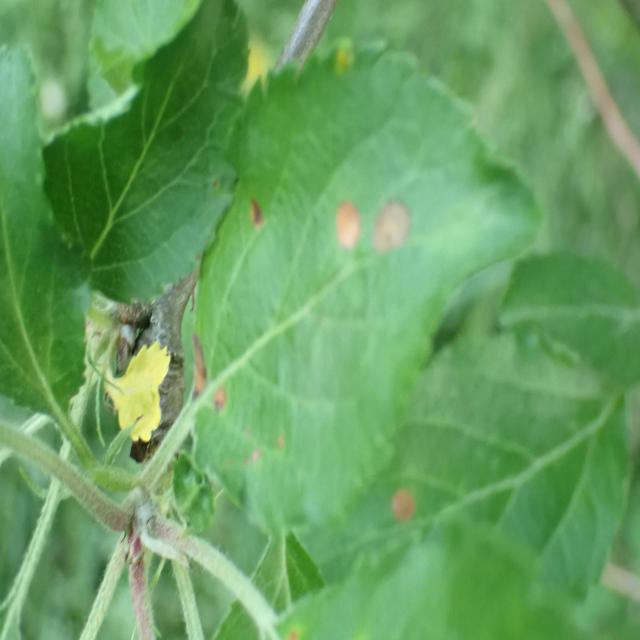Black Rot: (364, 193, 432, 266), (316, 193, 368, 258), (235, 180, 278, 251), (386, 474, 424, 540), (200, 368, 238, 428)
